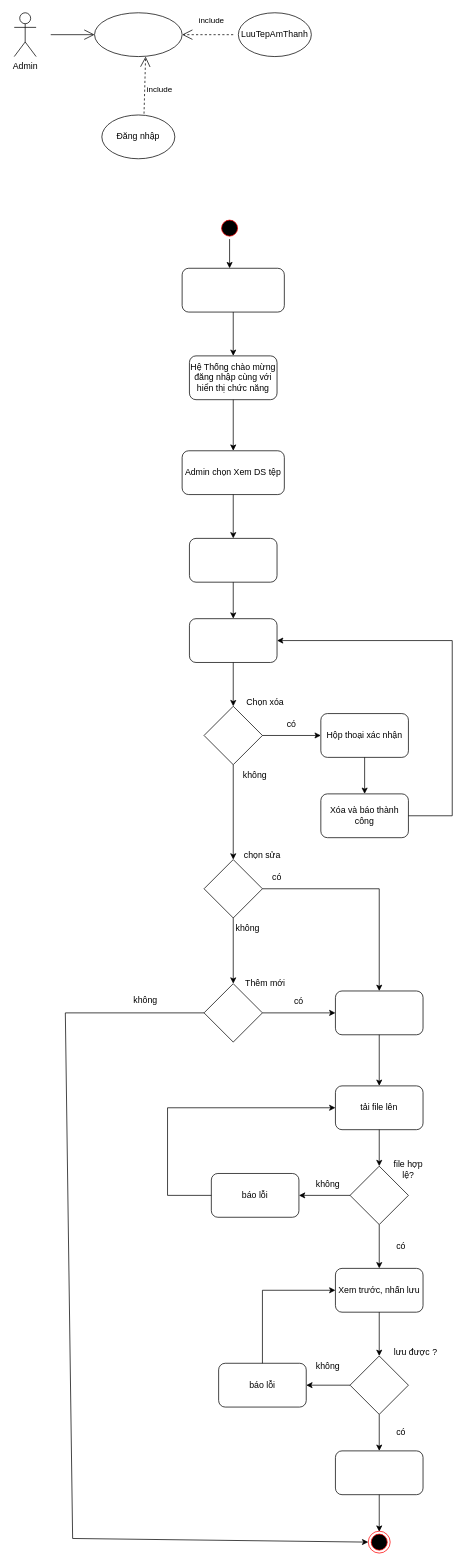
This 471x1566 diagram has some shape labels left out. Each missing label, with the box of its shape:
Admin chọn chức năng đăng nhập: (181, 268, 284, 312)
Chọn thao tác: (189, 618, 277, 662)
cập nhật hồ sơ: (335, 1450, 423, 1495)
Hiển thị biểu mẫu: (335, 990, 423, 1035)
Hệ Thống hiển thị danh sách chức năng: (189, 538, 277, 582)
QuanLyTepAmThanh: (94, 12, 182, 57)
